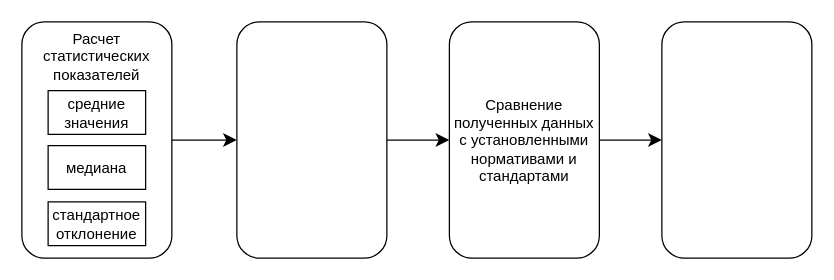
This 834x280 diagram has some shape labels left out. Here are the shapes that lost their labels. From the top down, the centre of each, then its label:
(311,139): Определение отклонений от средних значений и выявление аномалий
(736,139): Интерпретация полученных результатов
